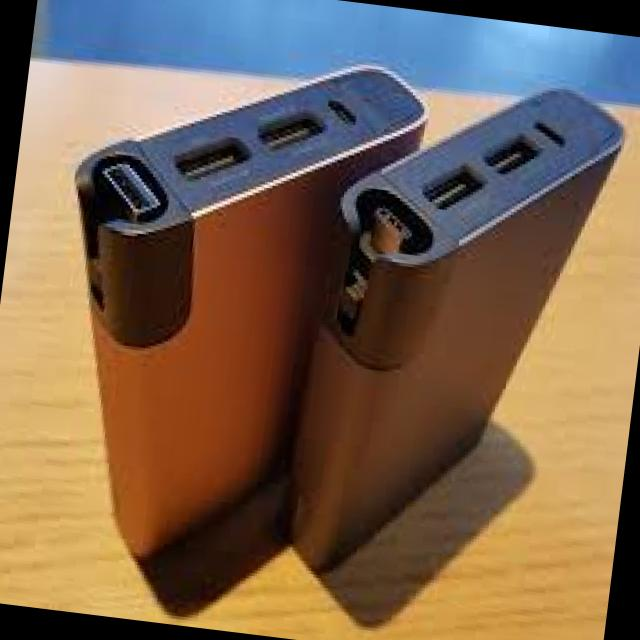power_bank: (16, 23, 435, 640), (274, 58, 634, 605)
